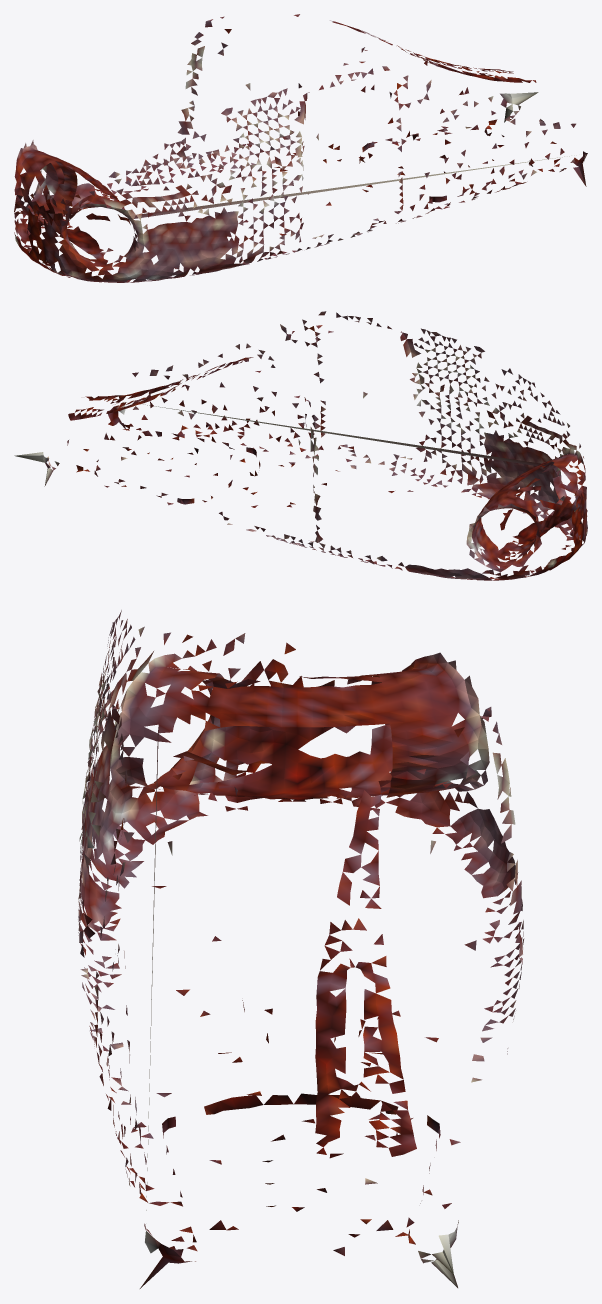
Rendered from whistle_final300.obj.
The picture shows the model from 3 angles, top to bottom: view 1: azimuth 30°, elevation 25°; view 2: azimuth 150°, elevation 25°; view 3: azimuth 270°, elevation 25°; orthographic projection. The views are drawn at different scales.
Size of the model in its own units: 2.01 by 0.6195 by 0.7446.
